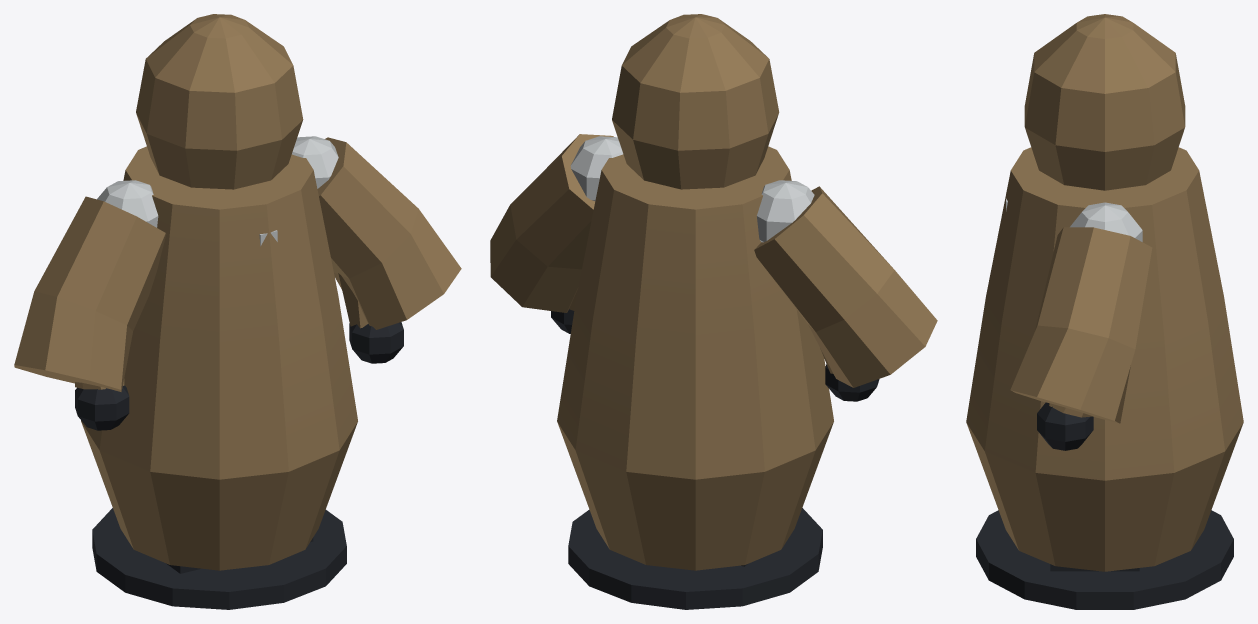
Rendered from jedi-knight-robe.glb.
3 renders of one model, left to right at view 1: azimuth 30°, elevation 25°; view 2: azimuth 150°, elevation 25°; view 3: azimuth 270°, elevation 25°, orthographic.
Parts seen in each view (by area): view 1: m; view 2: m; view 3: m.
Part boxes in pixels (left/top/right/bottom): m: left=14, top=14, right=461, bottom=609; m: left=490, top=14, right=937, bottom=609; m: left=966, top=14, right=1243, bottom=609.
Size of the model in its own units: 0.4737 by 0.56 by 0.2613.
